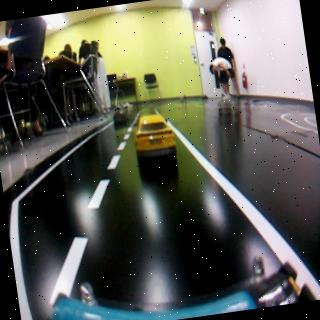car: (132, 110, 179, 162)
